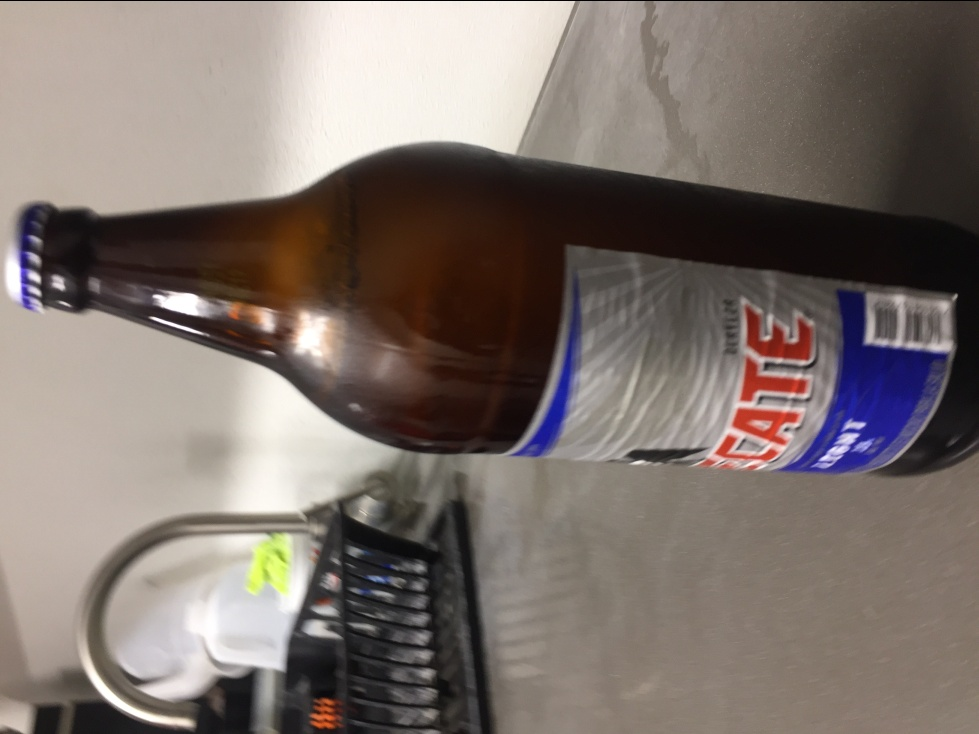tecateC: (6, 141, 979, 478)
